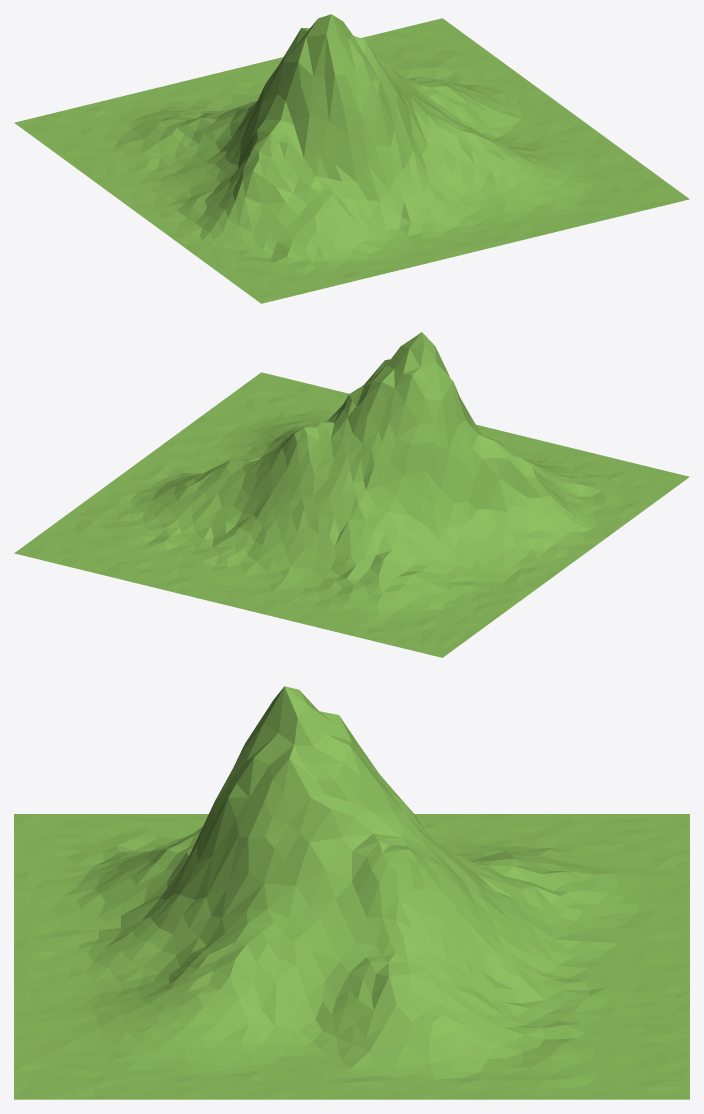
File: MT_Terrain_L_a_35.fbx
3 views of the same model, one above another, from view 1: azimuth 30°, elevation 25°; view 2: azimuth 150°, elevation 25°; view 3: azimuth 270°, elevation 25° (orthographic). The views are drawn at different scales.
Parts seen in each view (by area): view 1: MT_Terrain_L_a_35; view 2: MT_Terrain_L_a_35; view 3: MT_Terrain_L_a_35.
Part boxes in pixels (x1,y1,x2,y2): MT_Terrain_L_a_35: [14, 14, 689, 303]; MT_Terrain_L_a_35: [14, 332, 689, 657]; MT_Terrain_L_a_35: [14, 686, 689, 1099].
Bounding box in the file's own units: 10000 × 3934 × 10000.
